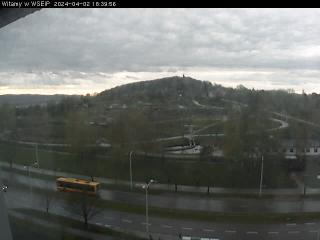bus: (56, 176, 100, 197)
car: (0, 182, 10, 193)
